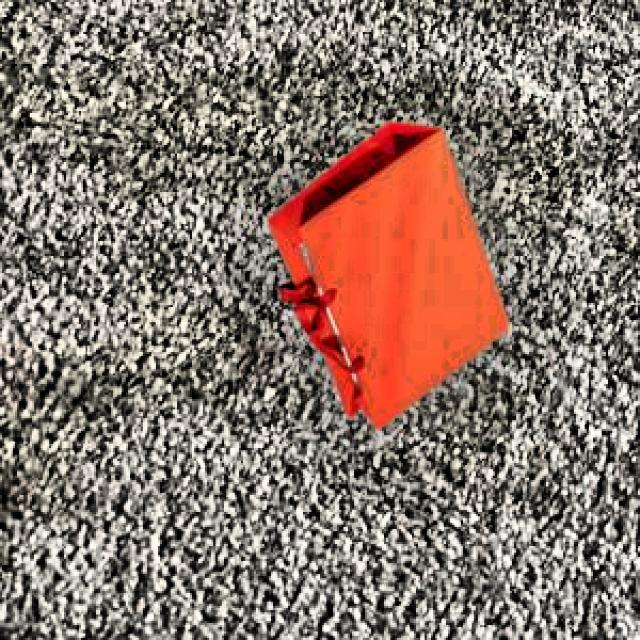Paper-bag: (258, 93, 516, 439)
